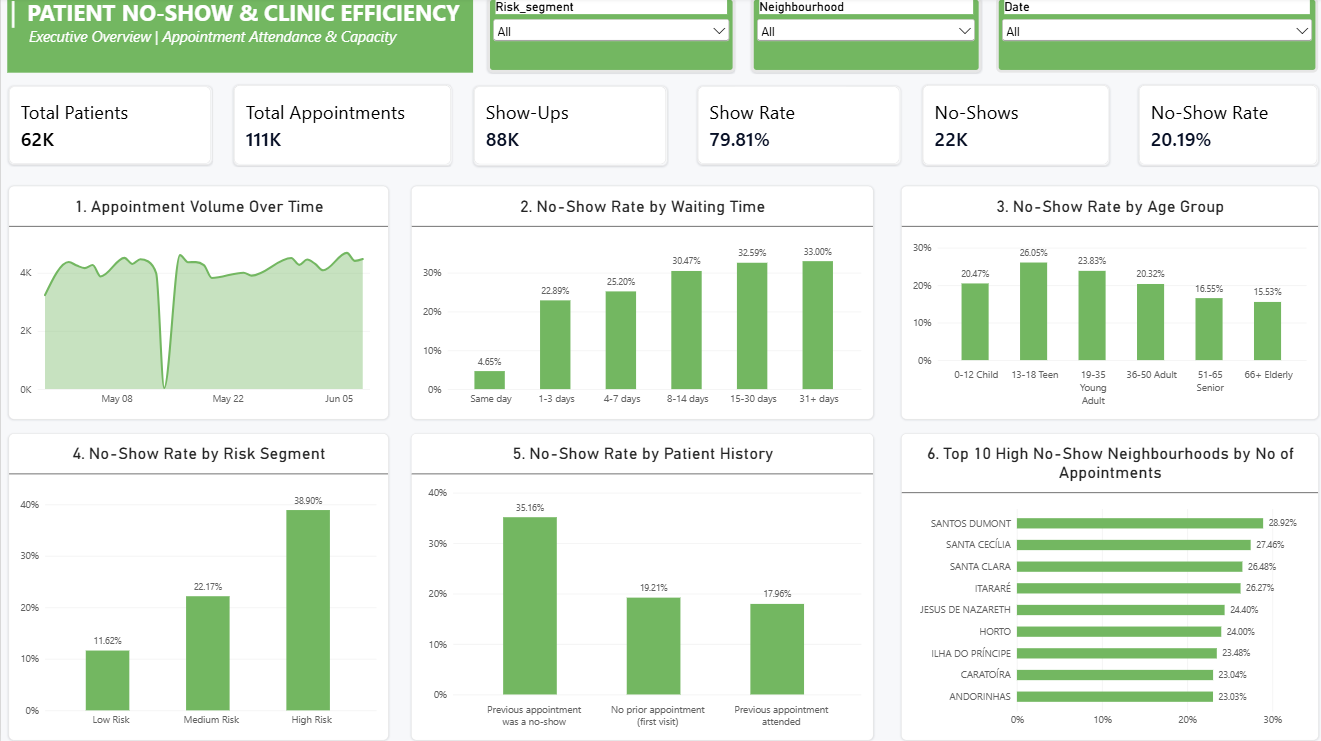

The page's visual inventory and layout, read from the dashboard file:
{"tool":"powerbi","page":{"name":"Executive Overview","canvas":[1920,1080],"ordinal":0},"visuals":[{"type":"cardVisual","fields":{"Data":["FactAppointments.Total Appointments"]},"box":[336.6,126.7,316.7,117.6],"z":0},{"type":"cardVisual","fields":{"Data":["FactAppointments.Total Patients"]},"box":[10.9,128.5,295,114],"z":1000},{"type":"cardVisual","fields":{"Data":["FactAppointments.No-Shows"]},"box":[1333.7,126.7,271.4,117.6],"z":2000},{"type":"cardVisual","fields":{"Data":["FactAppointments.Show-Ups"]},"box":[684.1,128.5,280.5,115.8],"z":3000},{"type":"cardVisual","fields":{"Data":["FactAppointments.No-Show Rate"]},"box":[1646.8,126.7,260.6,117.6],"z":4000},{"type":"cardVisual","fields":{"Data":["FactAppointments.Show Rate"]},"box":[1008,128.5,295,114],"z":5000},{"type":"textbox","box":[9.3,0,674.1,109.3],"z":6000},{"type":"lineChart","title":"1. Appointment Volume Over Time","fields":{"Category":["DimDate.date"],"Y":["FactAppointments.Total Appointments"]},"box":[10.9,273.3,550.1,338.4],"z":7000},{"type":"clusteredColumnChart","title":"4. No-Show Rate by Risk Segment","fields":{"Category":["FactAppointments.risk_segment"],"Y":["FactAppointments.No-Show Rate"]},"box":[10.9,631.6,550.1,445.2],"z":8000},{"type":"clusteredColumnChart","title":"3. No-Show Rate by Age Group","fields":{"Category":["FactAppointments.age_group"],"Y":["FactAppointments.No-Show Rate"]},"box":[1303,273.3,604.4,338.4],"z":9000},{"type":"clusteredColumnChart","title":"2. No-Show Rate by Waiting Time","fields":{"Category":["FactAppointments.waiting_time_group"],"Y":["FactAppointments.No-Show Rate"]},"box":[593.6,273.3,669.6,338.4],"z":10000},{"type":"clusteredColumnChart","title":"5. No-Show Rate by Patient History","fields":{"Category":["FactAppointments.Patient History Segment"],"Y":["FactAppointments.No-Show Rate"]},"box":[593.6,631.6,669.6,445.2],"z":11000},{"type":"slicer","fields":{"Values":["DimDate.year_month"]},"box":[1440.7,0,466.7,109.3],"z":12000},{"type":"slicer","fields":{"Values":["DimLocation.neighbourhood"]},"box":[1085.2,0,333.3,109.3],"z":13000},{"type":"slicer","fields":{"Values":["FactAppointments.risk_segment"]},"box":[703.7,0,359.3,109.3],"z":14000},{"type":"clusteredBarChart","title":"6. Top 10 High No-Show Neighbourhoods by No of Appointments","fields":{"Category":["DimLocation.neighbourhood"],"Y":["FactAppointments.No-Show Rate"]},"box":[1303,631.6,604.4,445.2],"z":15000}]}

Visuals, with their boxes in screenshot pixels (x1, y1, x2, y2), scaled from the page's 1920x1080 canvas onto the 1321x741 screenshot:
cardVisual - FactAppointments.Total Appointments: box(232, 87, 449, 168)
cardVisual - FactAppointments.Total Patients: box(7, 88, 210, 166)
cardVisual - FactAppointments.No-Shows: box(918, 87, 1104, 168)
cardVisual - FactAppointments.Show-Ups: box(471, 88, 664, 168)
cardVisual - FactAppointments.No-Show Rate: box(1133, 87, 1312, 168)
cardVisual - FactAppointments.Show Rate: box(694, 88, 896, 166)
textbox: box(6, 0, 470, 75)
"1. Appointment Volume Over Time" lineChart: box(7, 188, 386, 420)
"4. No-Show Rate by Risk Segment" clusteredColumnChart: box(7, 433, 386, 739)
"3. No-Show Rate by Age Group" clusteredColumnChart: box(896, 188, 1312, 420)
"2. No-Show Rate by Waiting Time" clusteredColumnChart: box(408, 188, 869, 420)
"5. No-Show Rate by Patient History" clusteredColumnChart: box(408, 433, 869, 739)
slicer - DimDate.year_month: box(991, 0, 1312, 75)
slicer - DimLocation.neighbourhood: box(747, 0, 976, 75)
slicer - FactAppointments.risk_segment: box(484, 0, 731, 75)
"6. Top 10 High No-Show Neighbourhoods by No of Appointments" clusteredBarChart: box(896, 433, 1312, 739)
